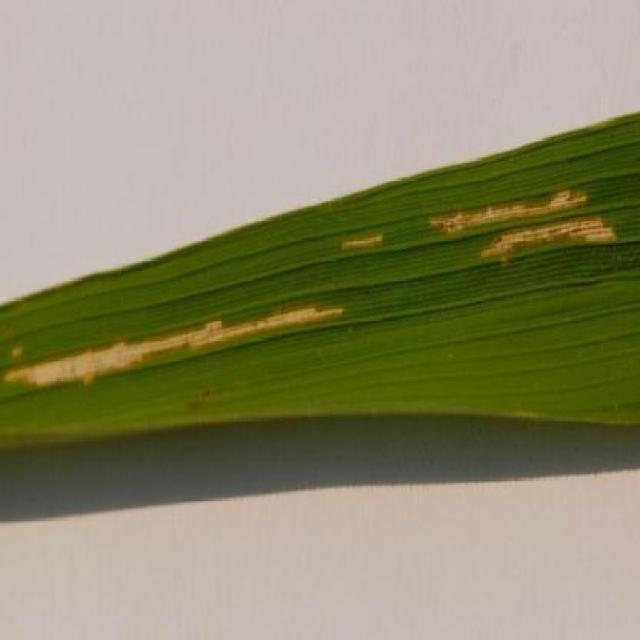Brown_Spot: (1, 89, 639, 505), (1, 300, 348, 422), (413, 185, 625, 293), (336, 204, 392, 264)
